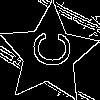C: (24, 29, 72, 69)
